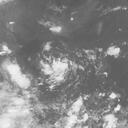cyclone: (40, 56, 70, 87)
